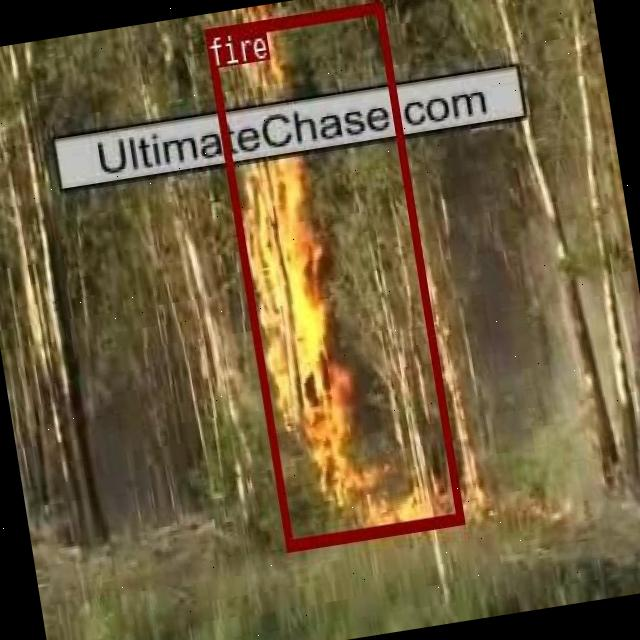fire: (203, 0, 462, 549)
